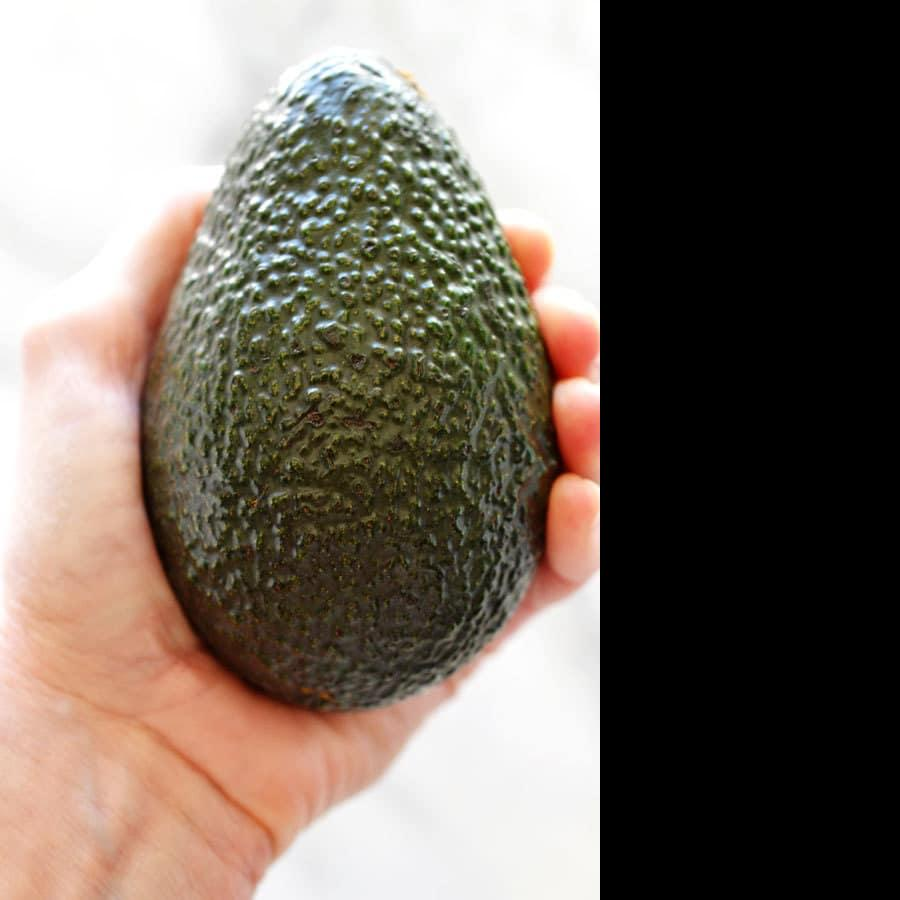ripe: (143, 48, 561, 713)
